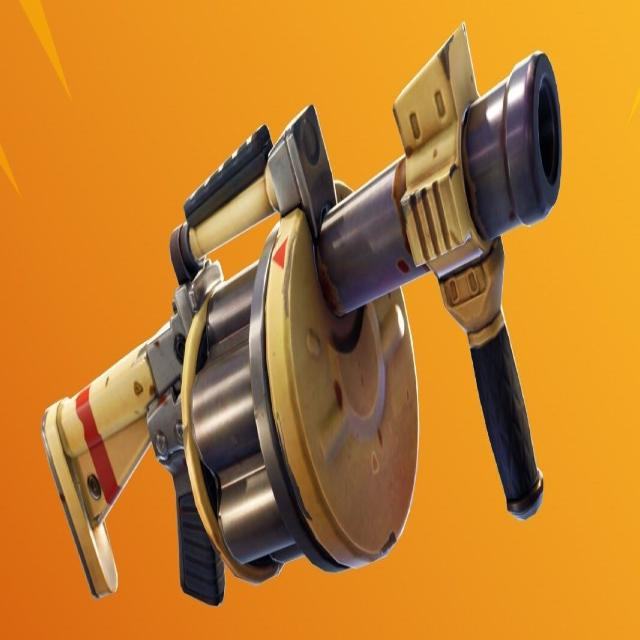Weapon: (38, 21, 570, 628)
